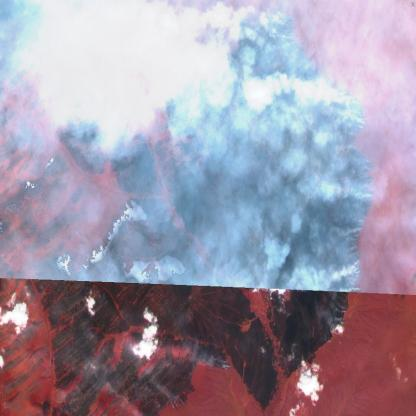fire: (314, 77, 381, 295), (224, 4, 311, 52)
